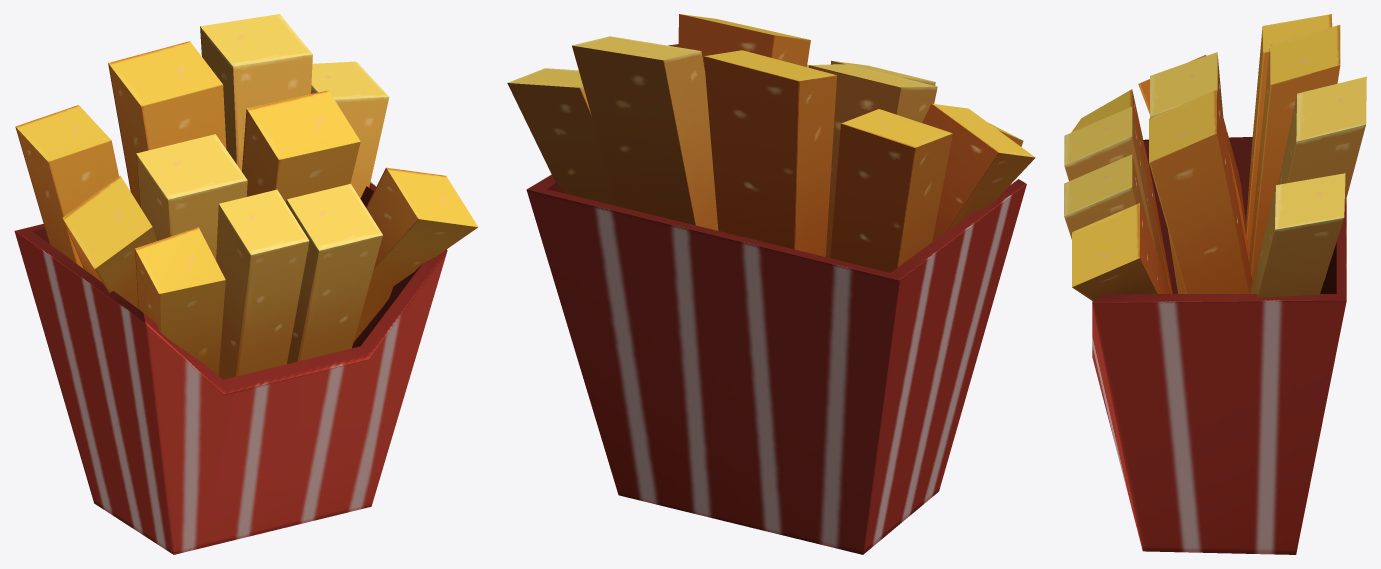
File: fried potato.FBX
The picture shows the model from 3 angles, left to right: view 1: azimuth 30°, elevation 25°; view 2: azimuth 150°, elevation 25°; view 3: azimuth 270°, elevation 25°; orthographic projection. The views are drawn at different scales.
Visible parts, largest first — view 1: fried potato; view 2: fried potato; view 3: fried potato.
Boxes of the visible parts, x1,y1,x2,y2 form: fried potato: (14,14,478,554); fried potato: (507,14,1035,554); fried potato: (1064,14,1366,554).
Bounding box in the file's own units: 3.23 × 3.6 × 2.24.
